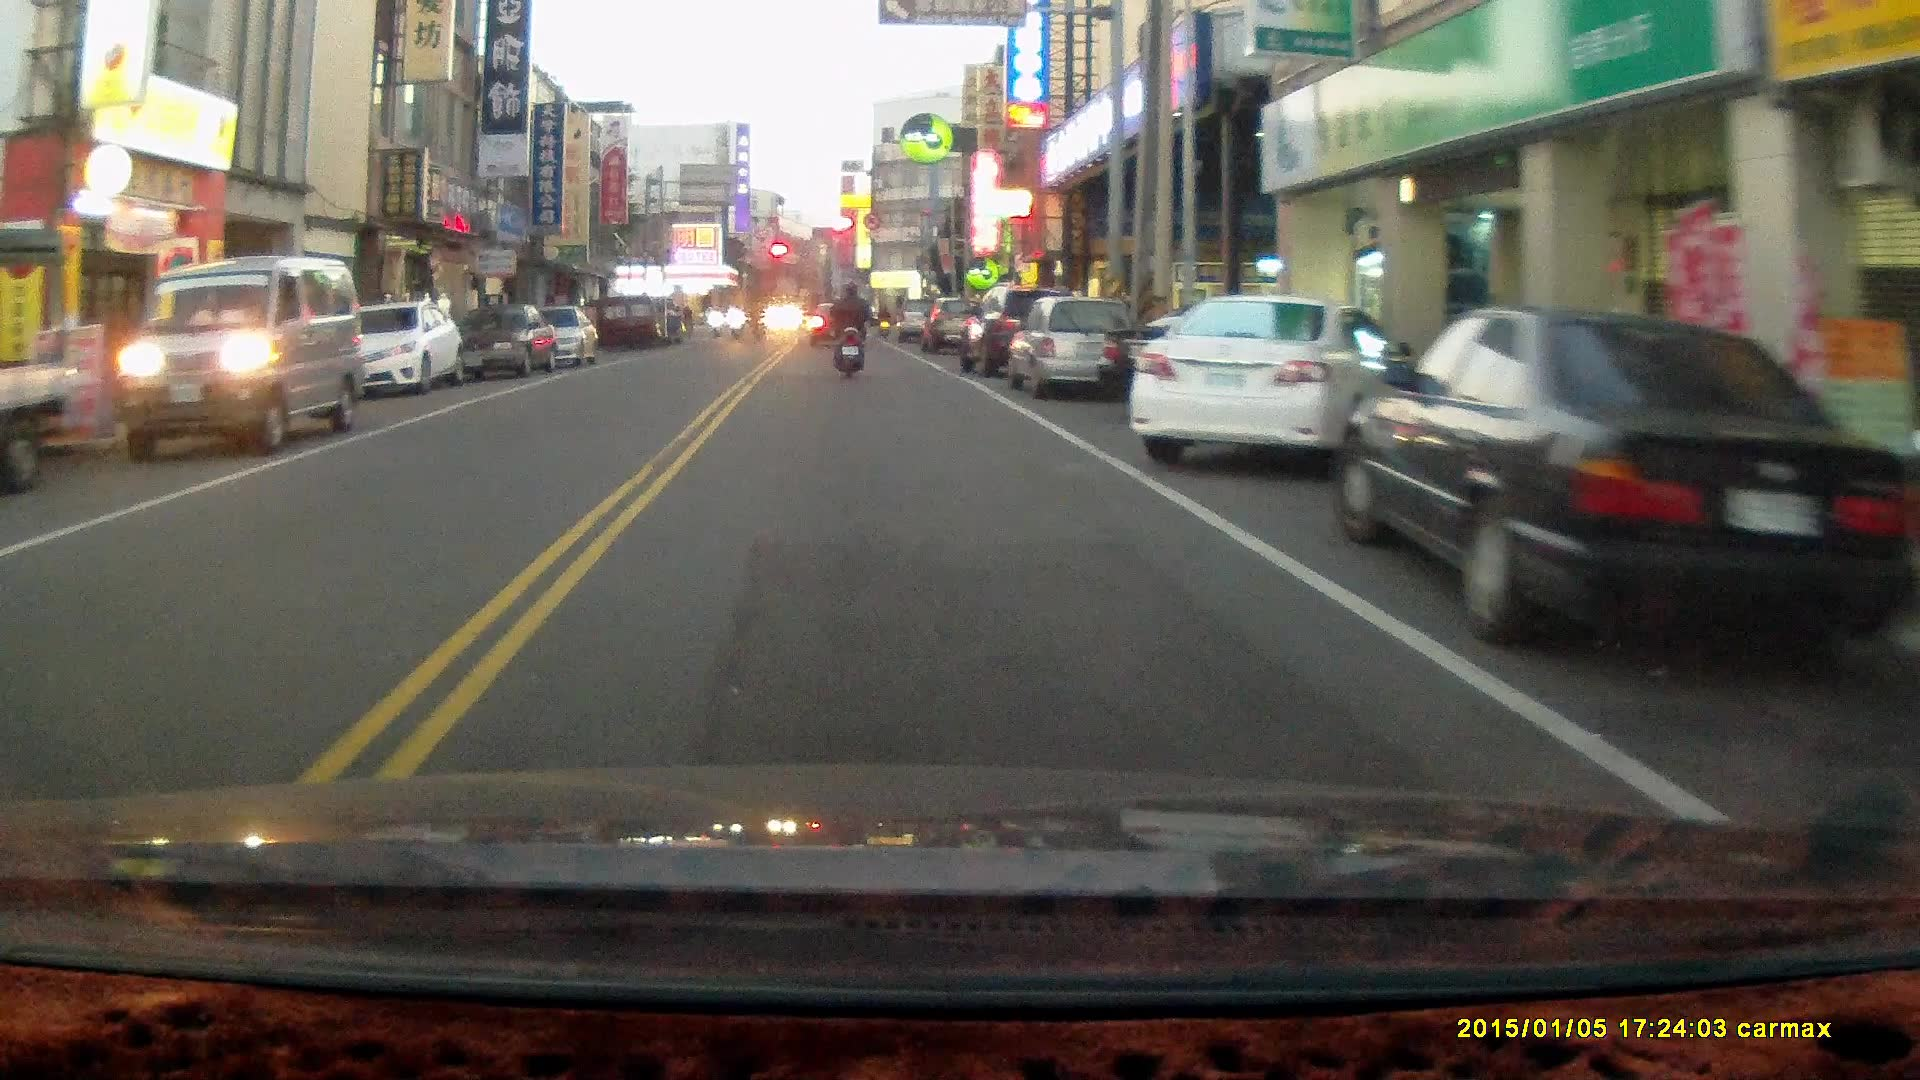rider: (827, 277, 872, 379)
vehicle: (1334, 304, 1907, 649), (1128, 290, 1400, 472), (123, 252, 366, 454), (0, 229, 72, 498), (1005, 292, 1142, 394), (337, 298, 465, 393)
